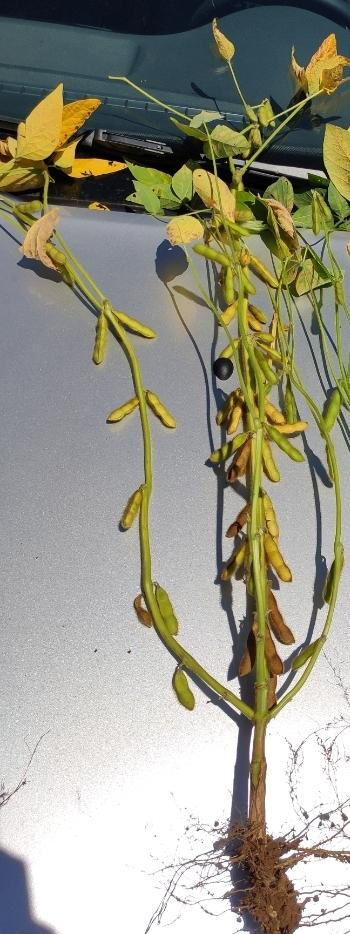soja: (264, 592, 310, 643), (165, 666, 207, 715), (320, 542, 348, 611), (146, 581, 182, 634), (97, 395, 147, 432), (111, 488, 149, 535), (110, 303, 152, 345), (289, 637, 333, 675), (210, 429, 254, 467), (265, 426, 304, 468), (144, 390, 187, 428), (260, 415, 311, 447), (263, 537, 299, 582), (277, 385, 315, 427), (252, 437, 287, 481), (245, 254, 287, 290), (217, 539, 249, 585), (230, 634, 260, 683), (260, 499, 297, 537), (318, 390, 350, 432), (211, 264, 243, 305), (86, 317, 111, 369), (256, 630, 286, 673), (224, 501, 260, 536), (225, 448, 255, 489), (211, 330, 245, 364), (249, 352, 286, 383), (214, 390, 244, 427), (192, 243, 233, 270), (305, 195, 329, 240), (38, 239, 70, 271), (210, 291, 240, 325), (133, 602, 154, 645), (224, 400, 252, 431), (222, 211, 250, 241), (257, 394, 286, 422), (14, 194, 43, 221), (267, 682, 287, 718), (243, 299, 273, 323), (241, 559, 259, 598), (238, 269, 258, 298), (264, 100, 281, 131), (332, 275, 347, 307), (254, 108, 275, 130), (259, 330, 276, 349)
